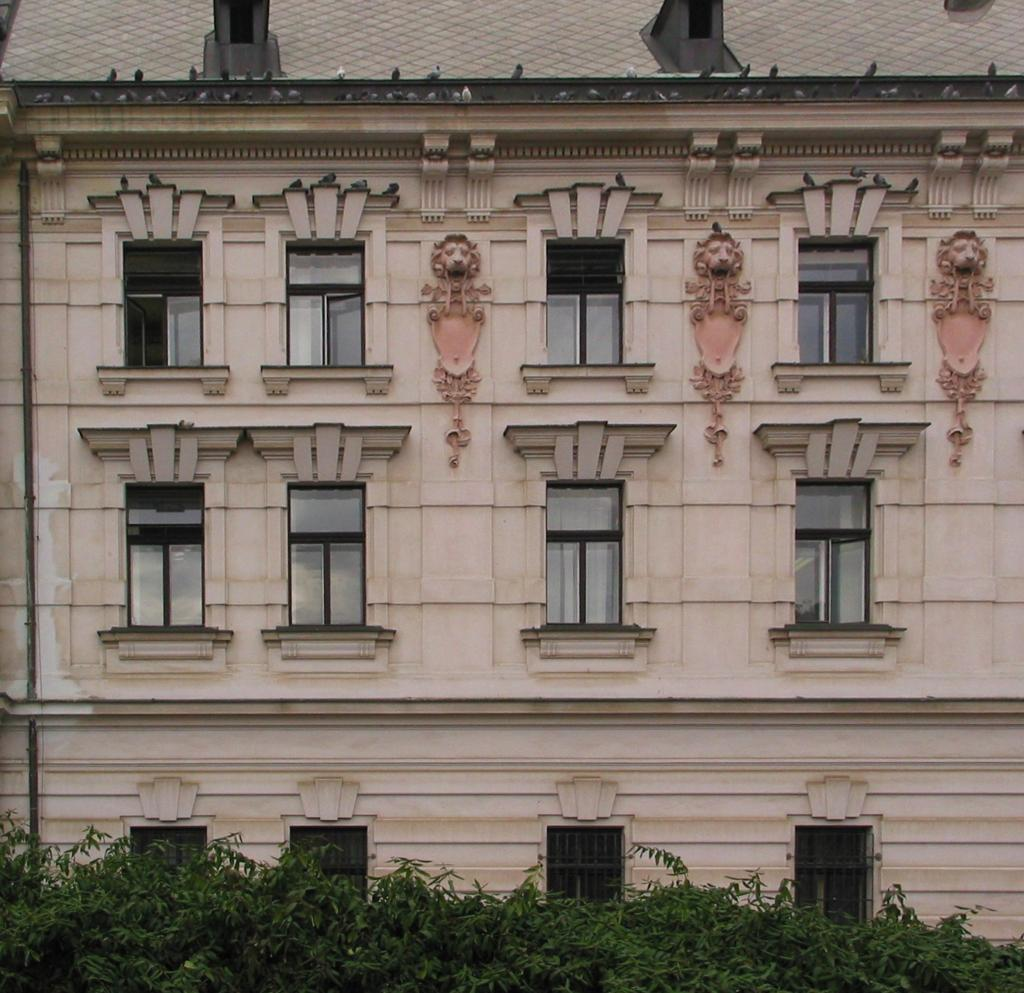window: (796, 478, 875, 628), (126, 484, 205, 629), (547, 481, 624, 629), (288, 482, 366, 625), (800, 239, 881, 364), (286, 239, 365, 366), (124, 242, 204, 366), (547, 827, 625, 954), (796, 825, 873, 953), (290, 827, 367, 954), (547, 241, 624, 364), (688, 4, 714, 46), (231, 6, 256, 47)
